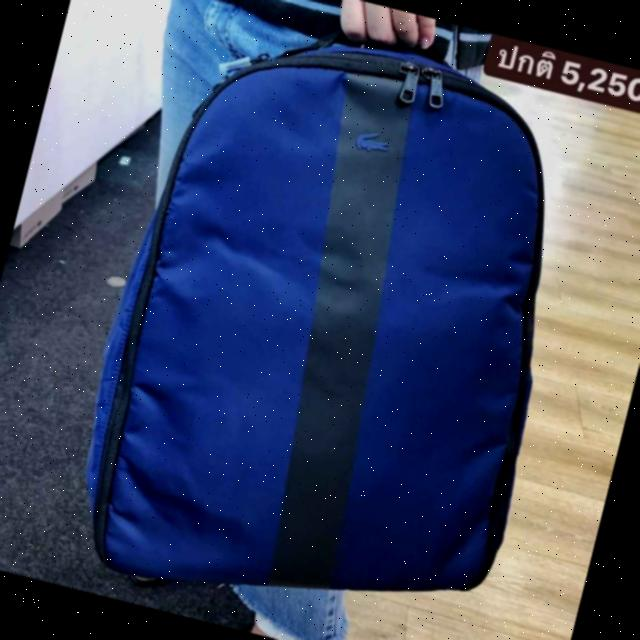Handbag: (66, 0, 616, 640)
